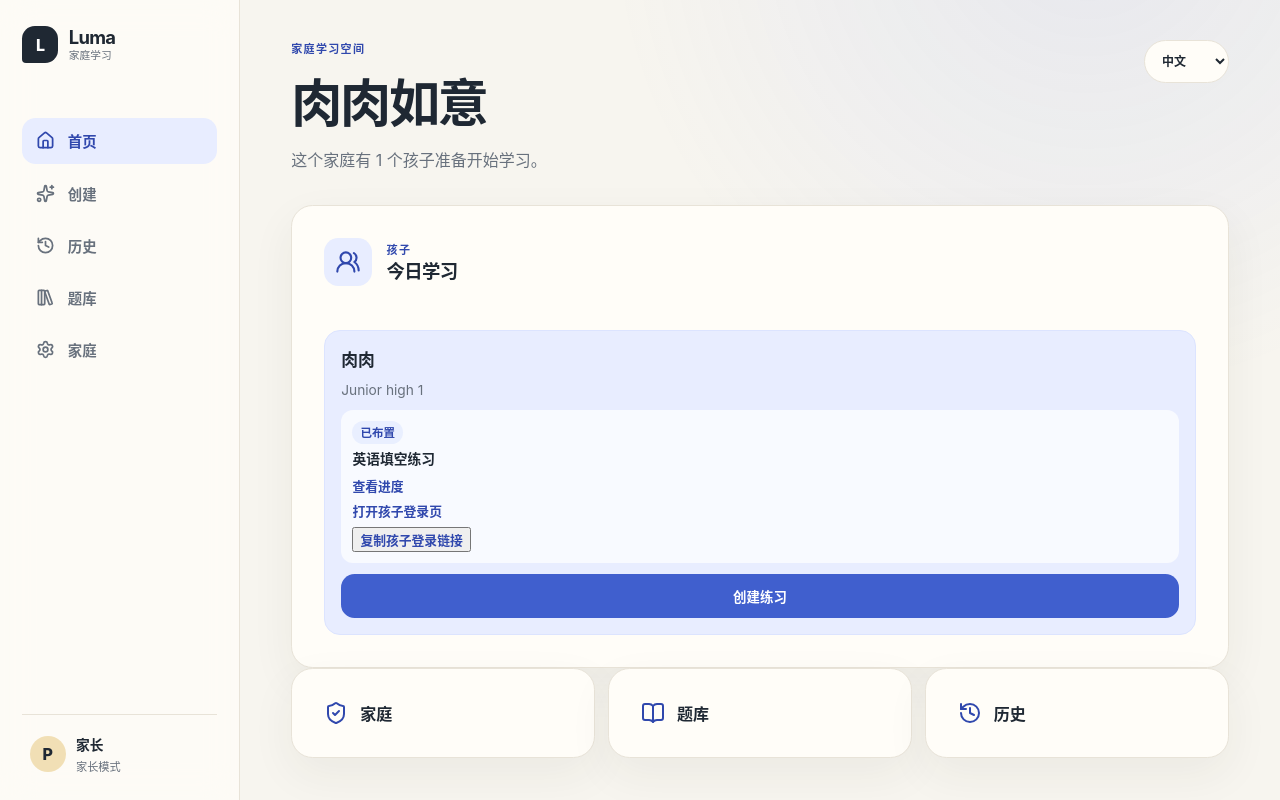
Scenario: ParentDashboard › copies a PIN-protected child sign-in link for use on another device
The width and height of the screenshot is (1280, 800).
Click the button "复制孩子登录链接" at [412, 539], box x1=352 y1=527 x2=471 y2=552
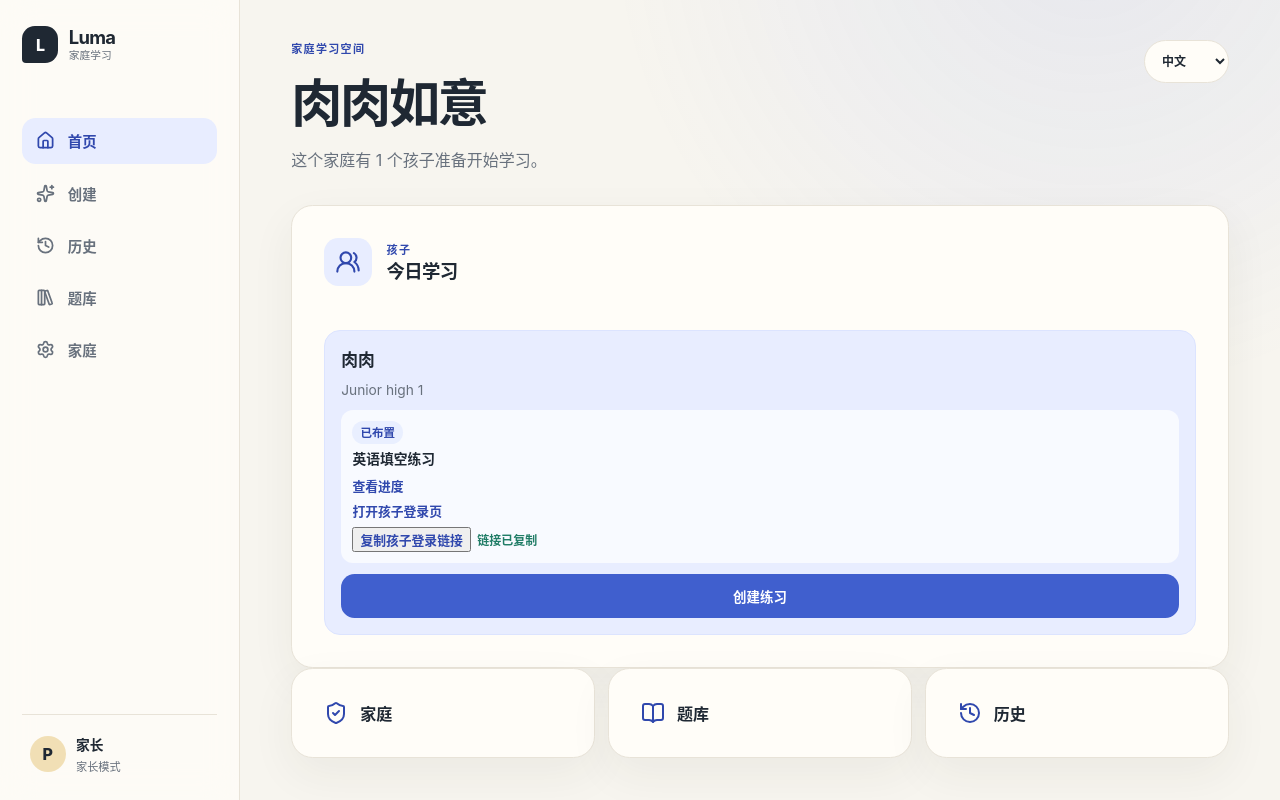
Expected: the text "链接已复制" is shown, x1=477 y1=531 x2=537 y2=548
